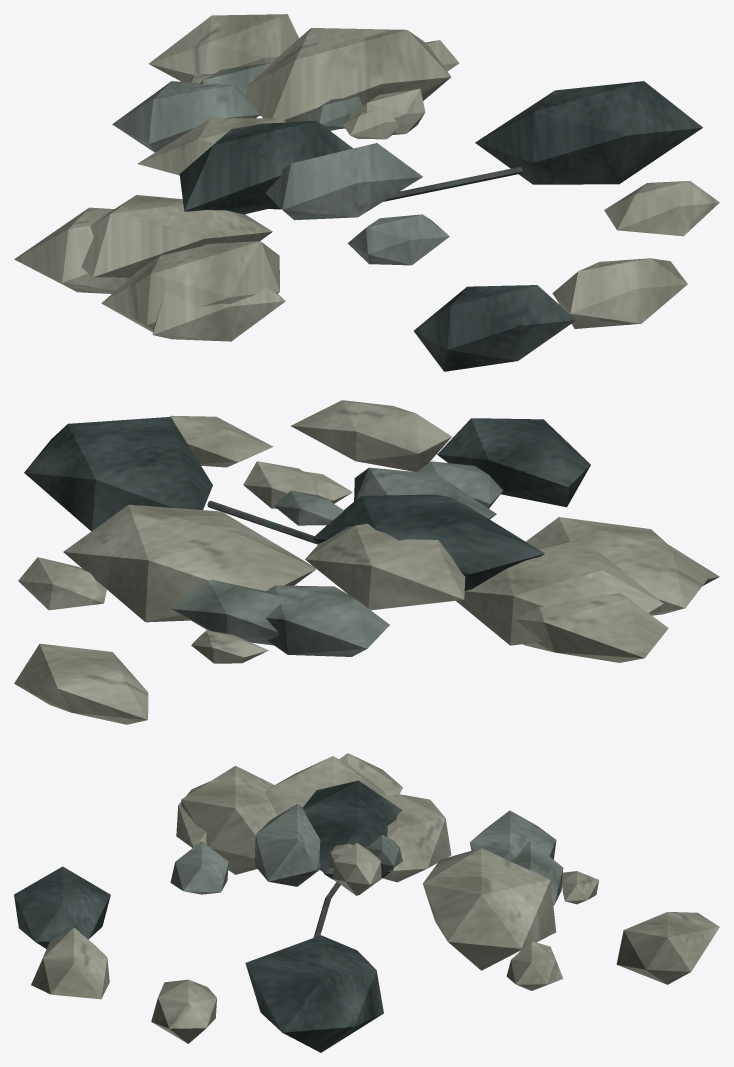
Rendered from 0115_scree_pile_15.glb.
3 renders of one model, top to bottom at view 1: azimuth 30°, elevation 25°; view 2: azimuth 150°, elevation 25°; view 3: azimuth 270°, elevation 25°, orthographic. The views are drawn at different scales.
Parts seen in each view (by area): view 1: stone_light, stone_dark, stone, iron; view 2: stone_light, stone_dark, stone, iron; view 3: stone_light, stone_dark, stone.
Part boxes in pixels (x1=…): stone_light: x1=14, y1=14, x2=719, y2=341; stone_dark: x1=179, y1=81, x2=702, y2=371; stone: x1=112, y1=62, x2=449, y2=265; iron: x1=269, y1=166, x2=522, y2=209; stone_light: x1=14, y1=400, x2=719, y2=724; stone_dark: x1=24, y1=417, x2=590, y2=590; stone: x1=172, y1=461, x2=502, y2=656; iron: x1=207, y1=500, x2=318, y2=544; stone_light: x1=31, y1=753, x2=719, y2=1043; stone_dark: x1=14, y1=780, x2=401, y2=1052; stone: x1=170, y1=804, x2=563, y2=905.
Size of the model in its own units: 3.19 by 0.6263 by 3.41.
Materials: 4 (4 with a texture image).
